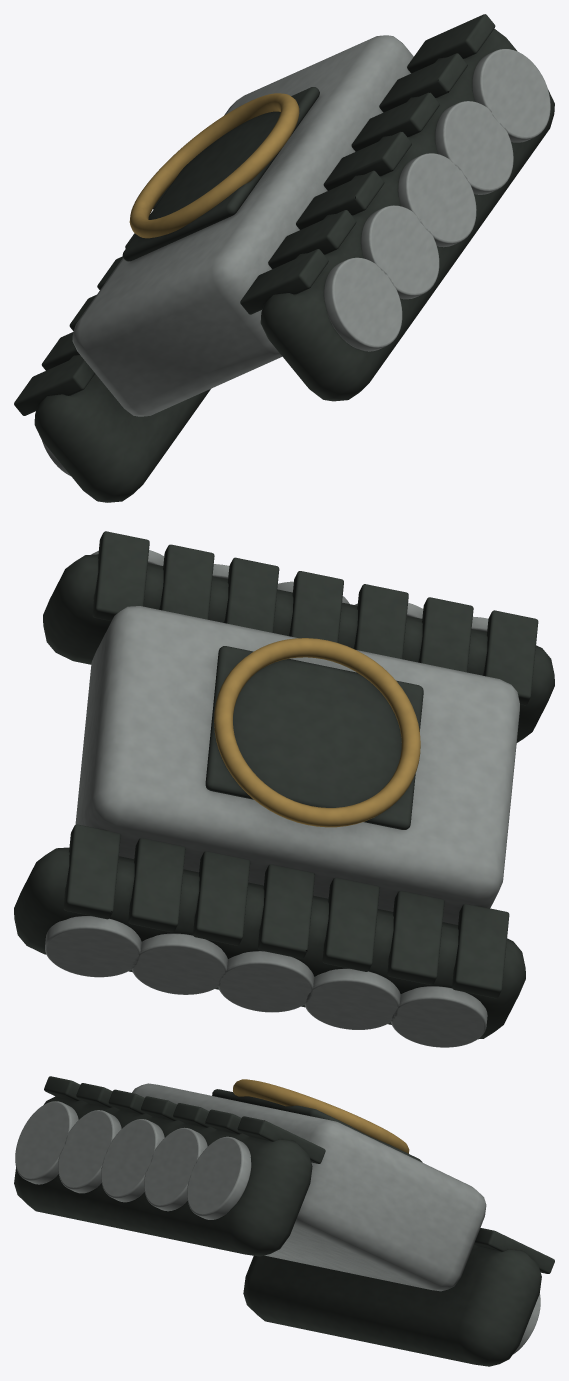
3 views of the same model, one above another, from view 1: azimuth 30°, elevation 25°; view 2: azimuth 150°, elevation 25°; view 3: azimuth 270°, elevation 25° (orthographic). The views are drawn at different scales.
Visible parts, largest first — view 1: Unarmed chassis hull; view 2: Unarmed chassis hull; view 3: Unarmed chassis hull.
Boxes of the visible parts, x1,y1,x2,y2 form: Unarmed chassis hull: [14, 14, 554, 502]; Unarmed chassis hull: [14, 531, 554, 1047]; Unarmed chassis hull: [14, 1076, 554, 1366].
Bounding box in the file's own units: 1.55 × 1.21 × 1.64.
Materials: 1 (1 with a texture image).
